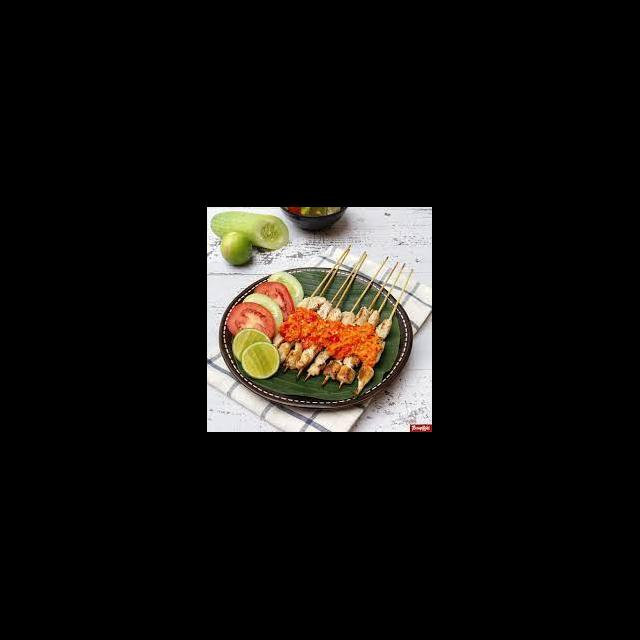food_waste: (253, 294, 376, 380)
